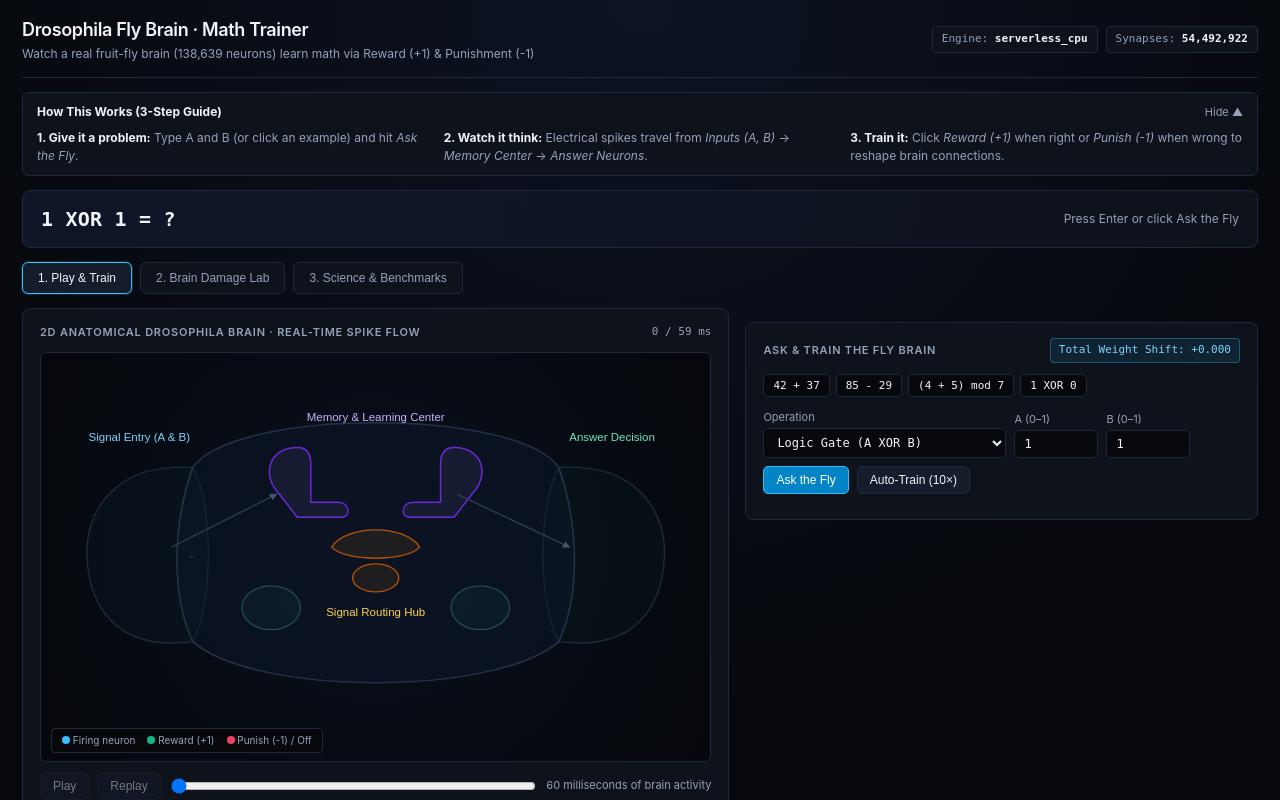
Drosophila Fly Brain Plain-English UI › clamps keyboard inputs per task, submits on Enter, and applies reward
Earlier steps of the test are not shown.
Check: the field labelled "A (0–1)" holds "1", box [1014,430,1098,458]
// Switching to mod_add caps at 0-6
Select "Modular Math ((A + B) mod 7)" in the dropdown labelled "Operation": coordinates (885, 443) [763,428,1006,458]
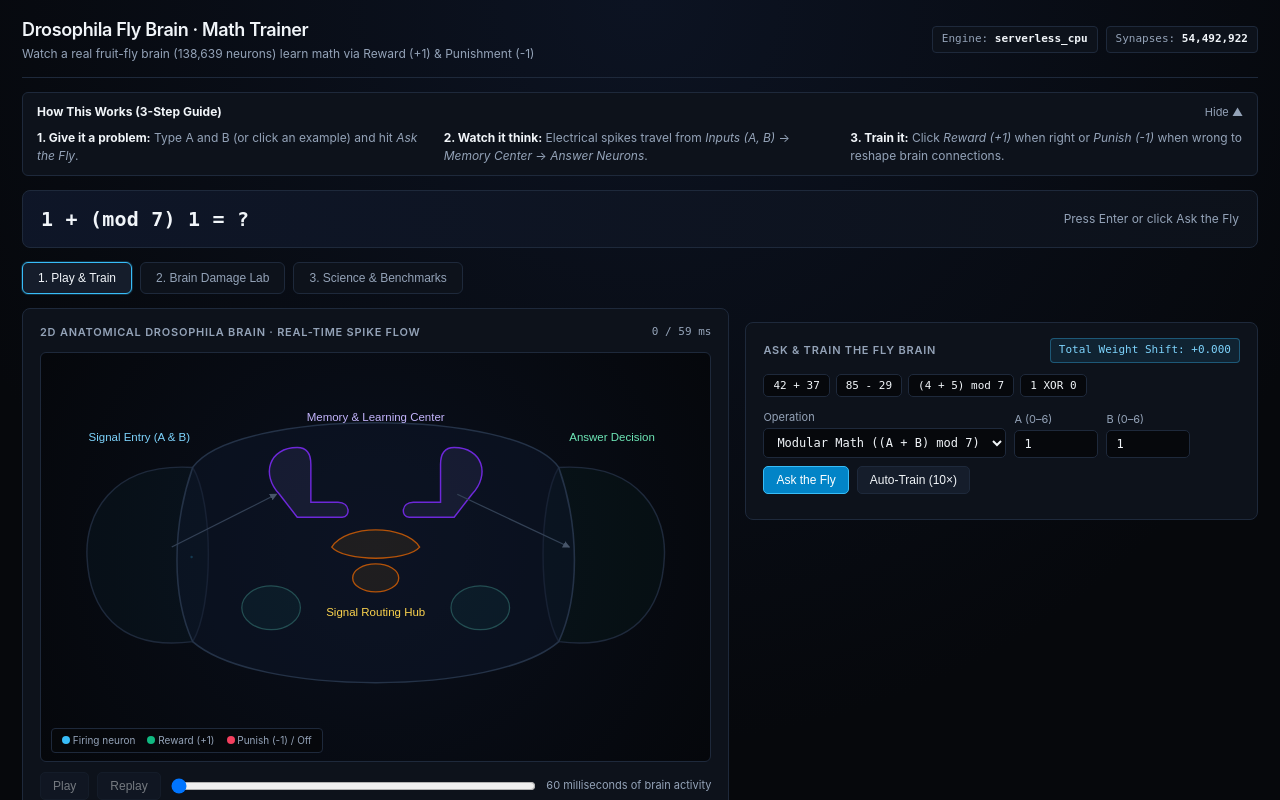
Replace the text in the field labelled "A (0–6)" with "10": coordinates (1056, 444) [1014,430,1098,458]
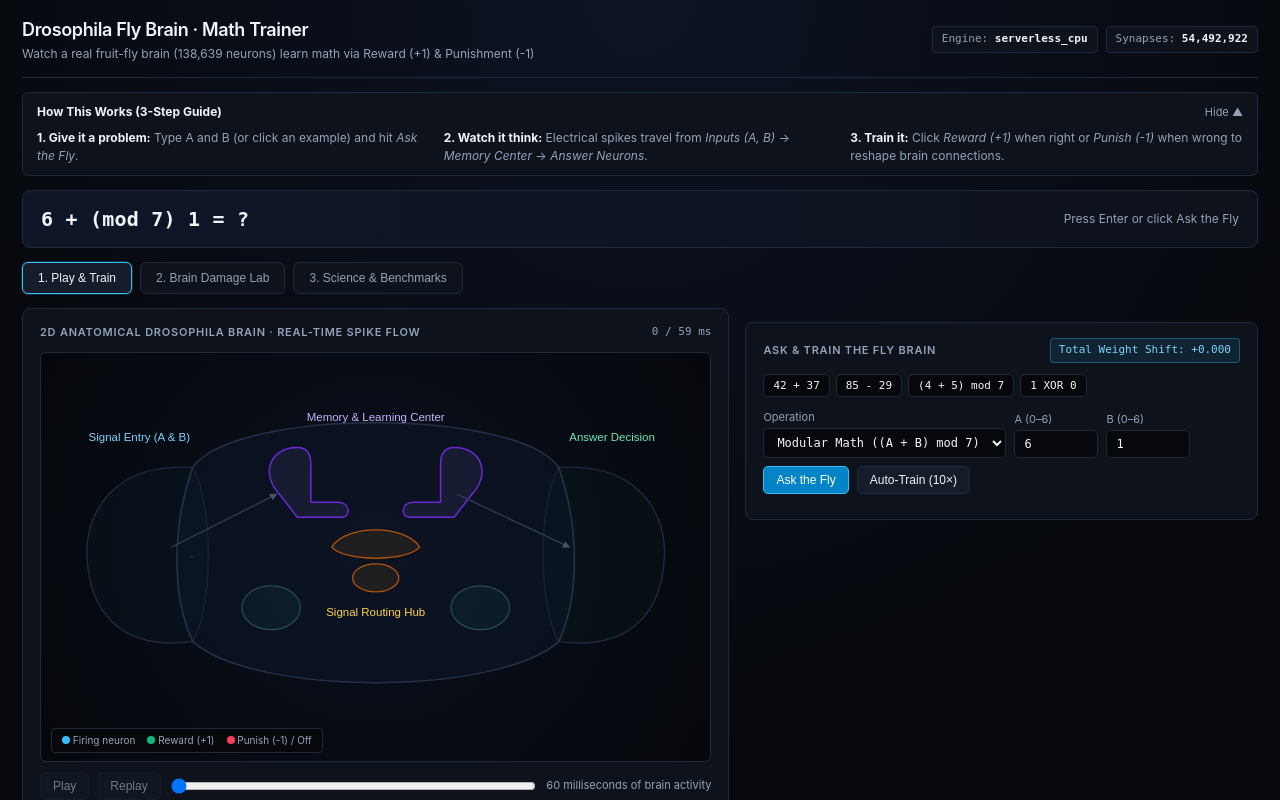
Check: the field labelled "A (0–6)" holds "6"
// Enter key submits solve
Press Enter in the field labelled "A (0–6)", box [1014,430,1098,458]
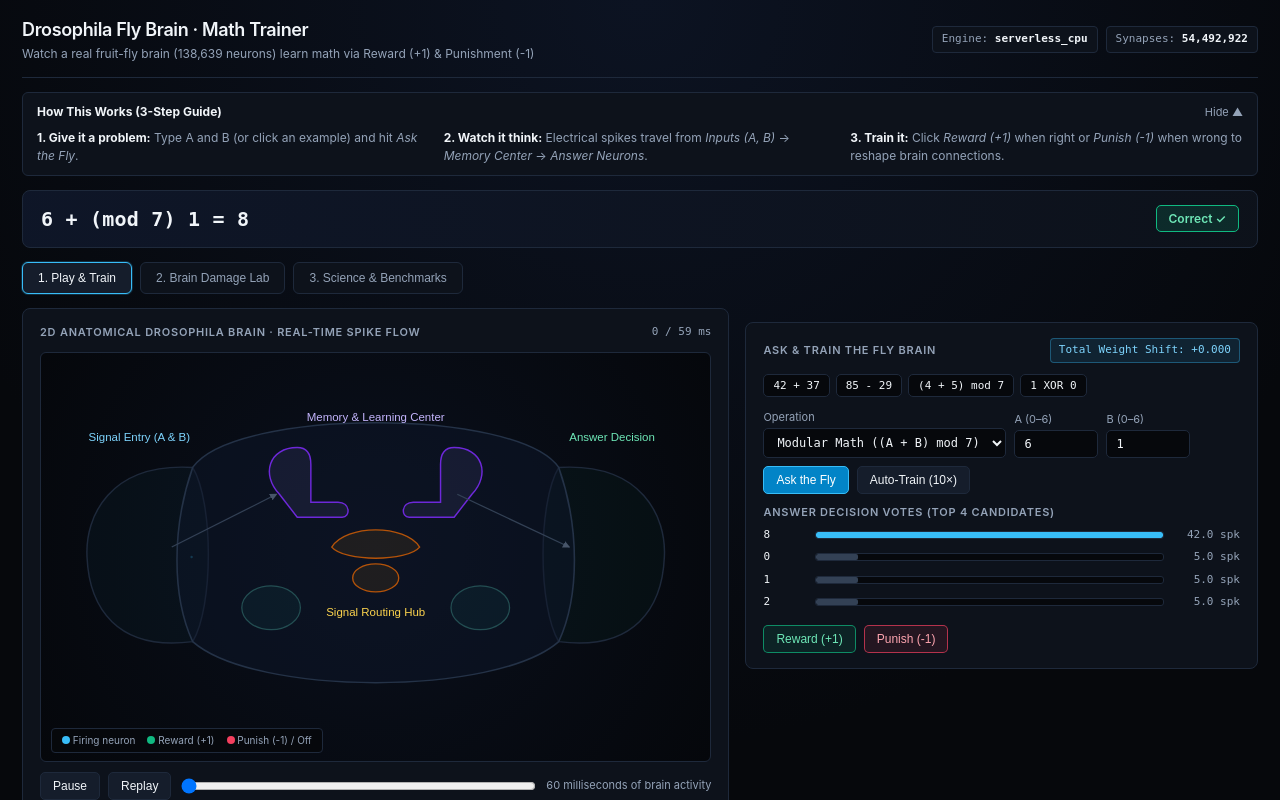
Check: the text "Correct ✓" is shown, box [1156,205,1239,232]
// Reward (+1) triggers dopamine pulse
Click the button "Reward (+1)": coordinates (810, 638) [763,624,856,652]
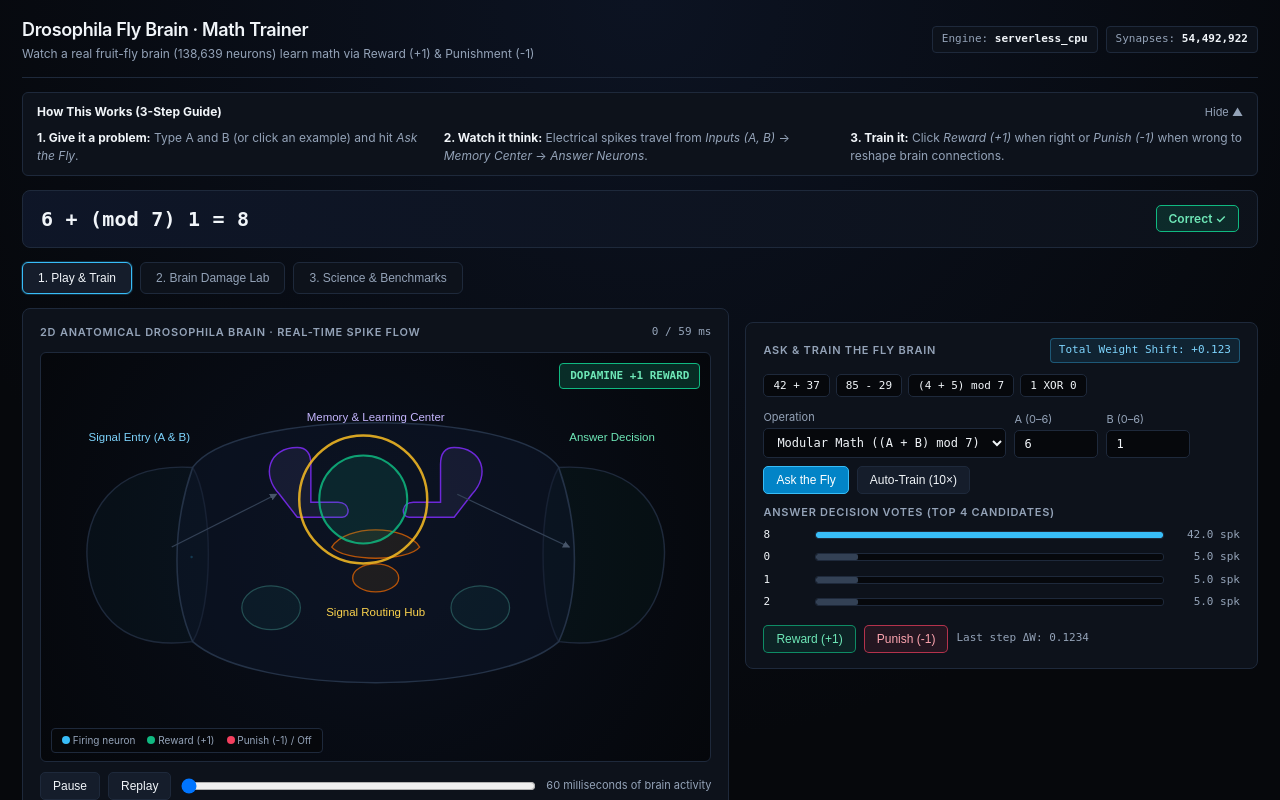
Check: the text "DOPAMINE +1 REWARD" is shown, box [559,362,700,389]
Click the button "2. Brain Damage Lab": coordinates (213, 278) [140,262,285,294]
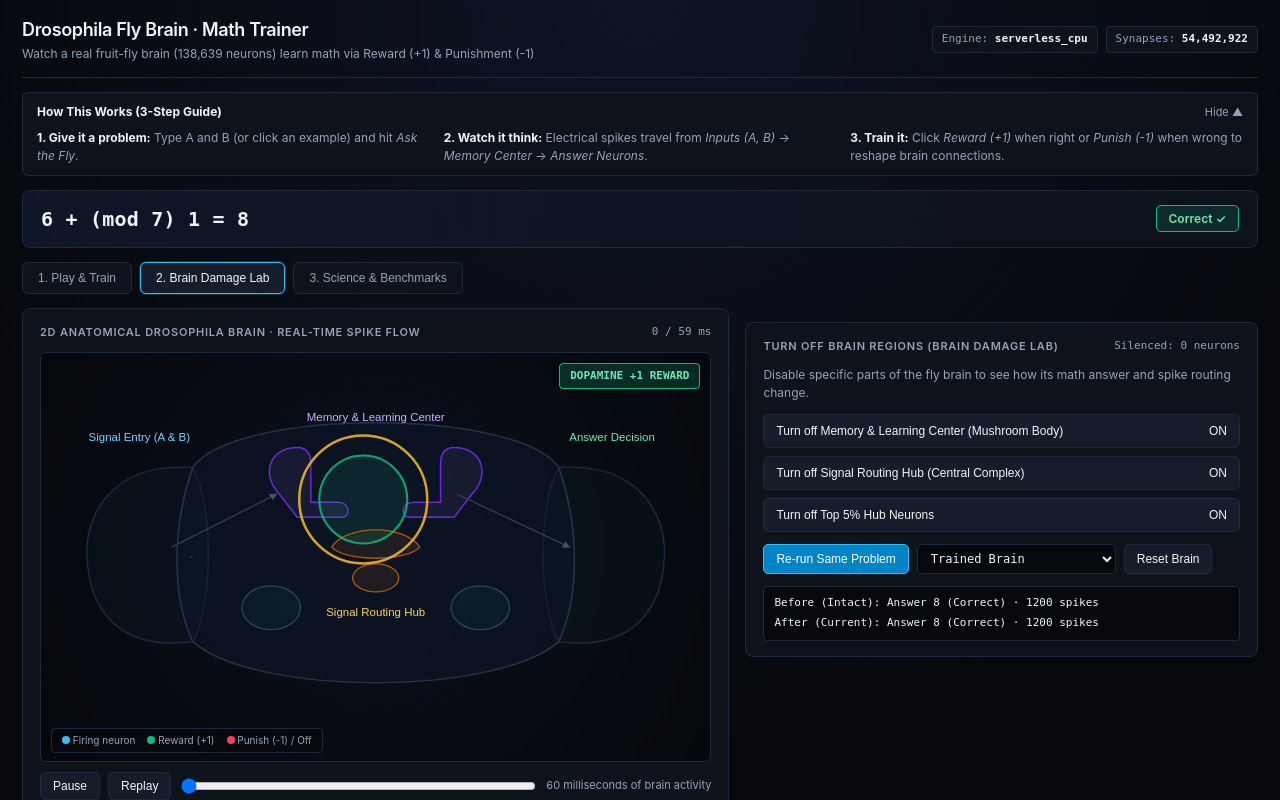
Check: the heading "Turn Off Brain Regions (Brain Damage Lab)" is shown, box [763,338,1059,354]
Click the button "3. Science & Benchmarks": coordinates (378, 278) [294,262,463,294]
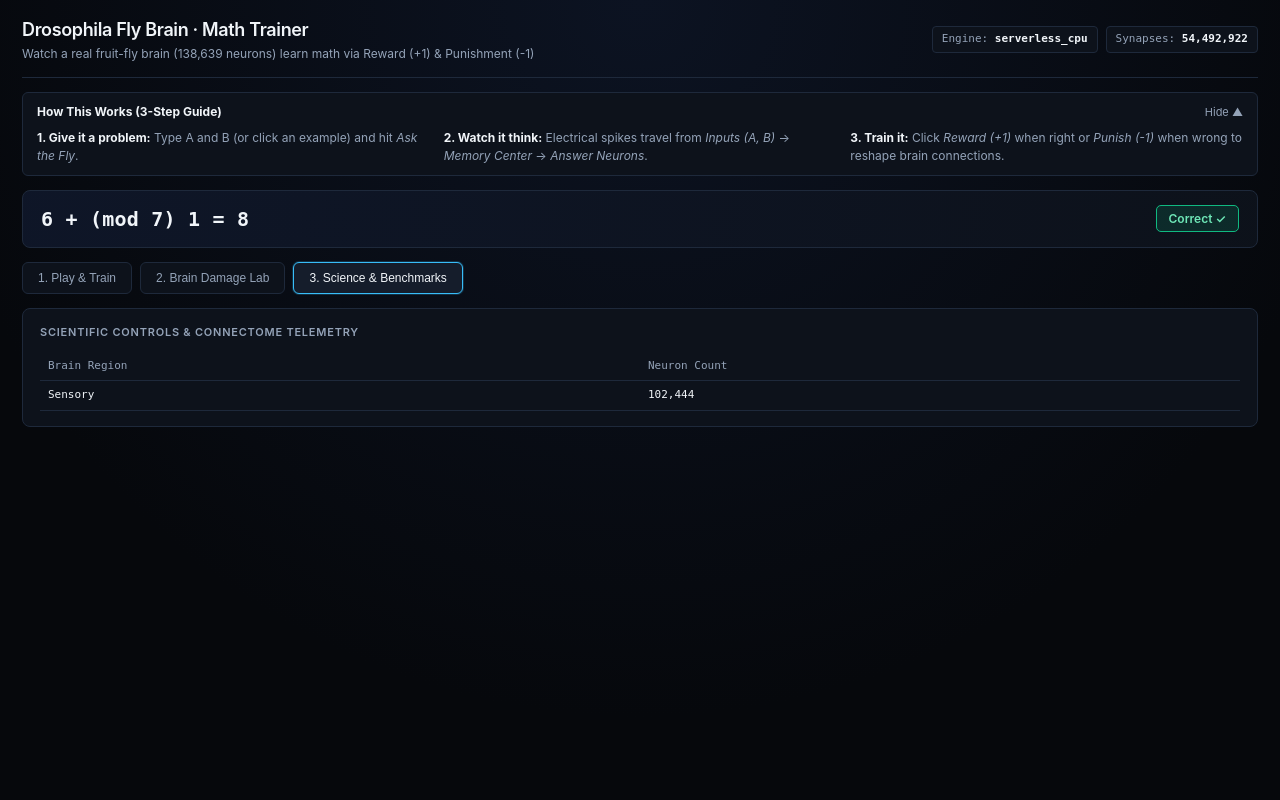
Check: the heading "Scientific Controls & Connectome Telemetry" is shown, box [40,324,359,340]
